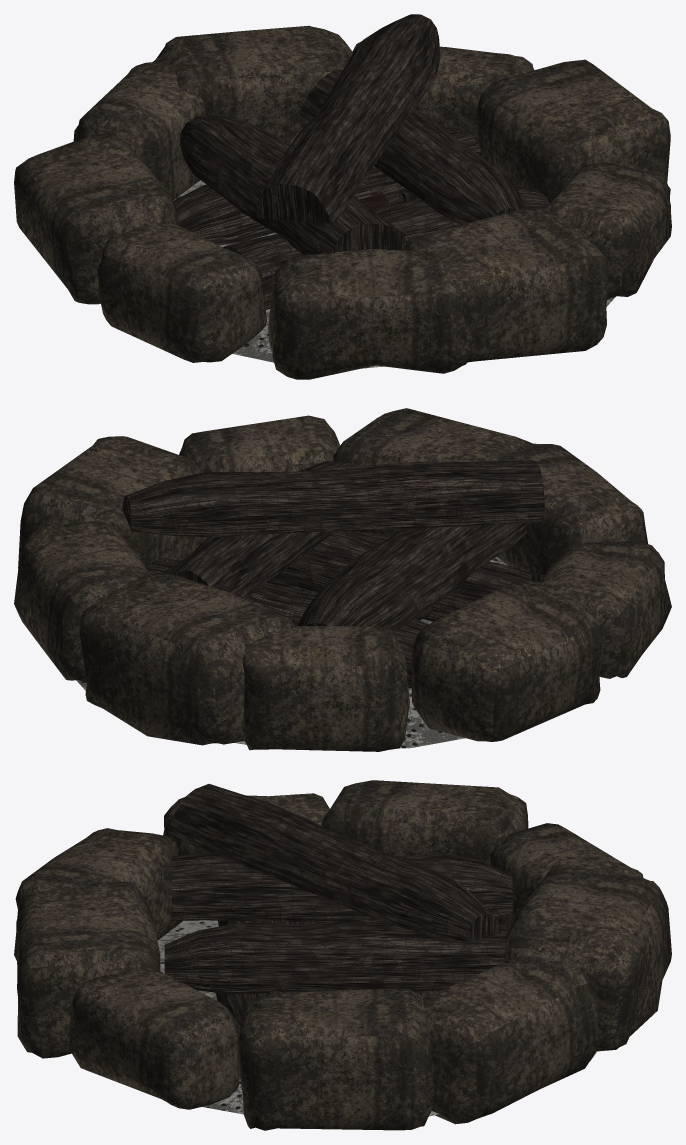
The model's file is campfire.glb.
3 views of the same model, one above another, from view 1: azimuth 30°, elevation 25°; view 2: azimuth 150°, elevation 25°; view 3: azimuth 270°, elevation 25° (orthographic).
Parts seen in each view (by area): view 1: campfire; view 2: campfire; view 3: campfire.
Part boxes in pixels (x1=…): campfire: x1=14, y1=14, x2=671, y2=379; campfire: x1=14, y1=408, x2=671, y2=751; campfire: x1=14, y1=780, x2=671, y2=1130.
Size of the model in its own units: 0.9006 by 0.2643 by 0.9075.
3 materials, 3 textured.
